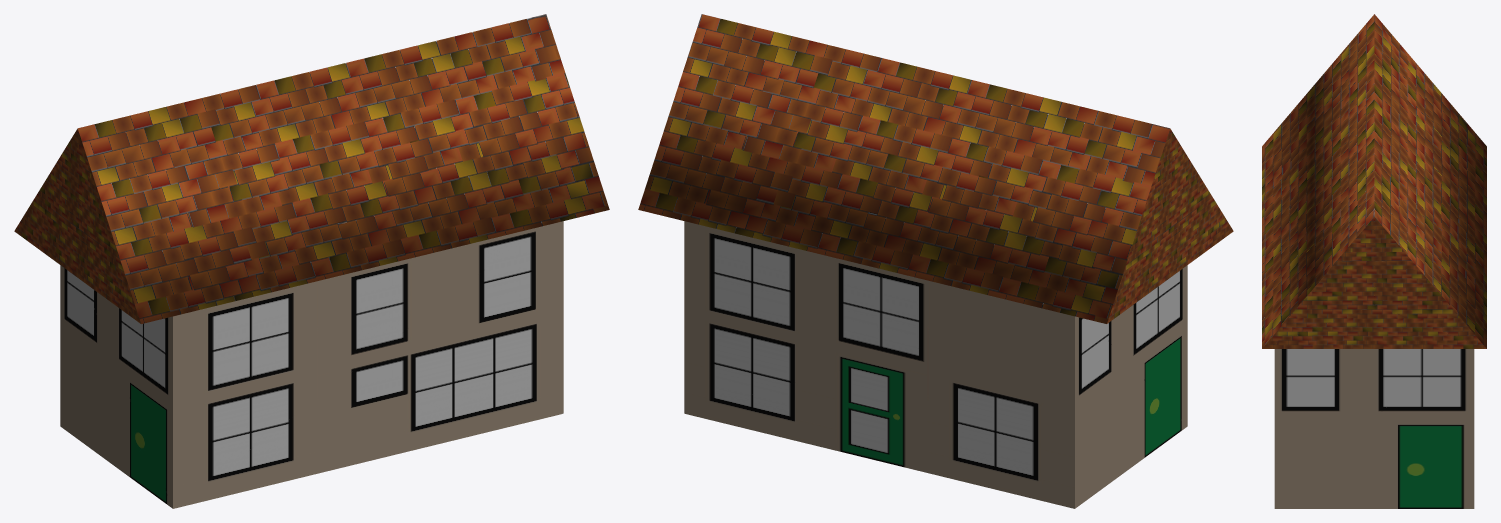
The model's file is house.glb.
The picture shows the model from 3 angles, left to right: view 1: azimuth 30°, elevation 25°; view 2: azimuth 150°, elevation 25°; view 3: azimuth 270°, elevation 25°; orthographic projection. The views are drawn at different scales.
Visible parts, largest first — view 1: semi_house; view 2: semi_house; view 3: semi_house.
Boxes of the visible parts, x1,y1,x2,y2 form: semi_house: (14, 14, 609, 508); semi_house: (638, 14, 1233, 508); semi_house: (1262, 14, 1486, 508).
Size of the model in its own units: 2.4 by 1.71 by 1.13.
2 materials, 2 textured.
